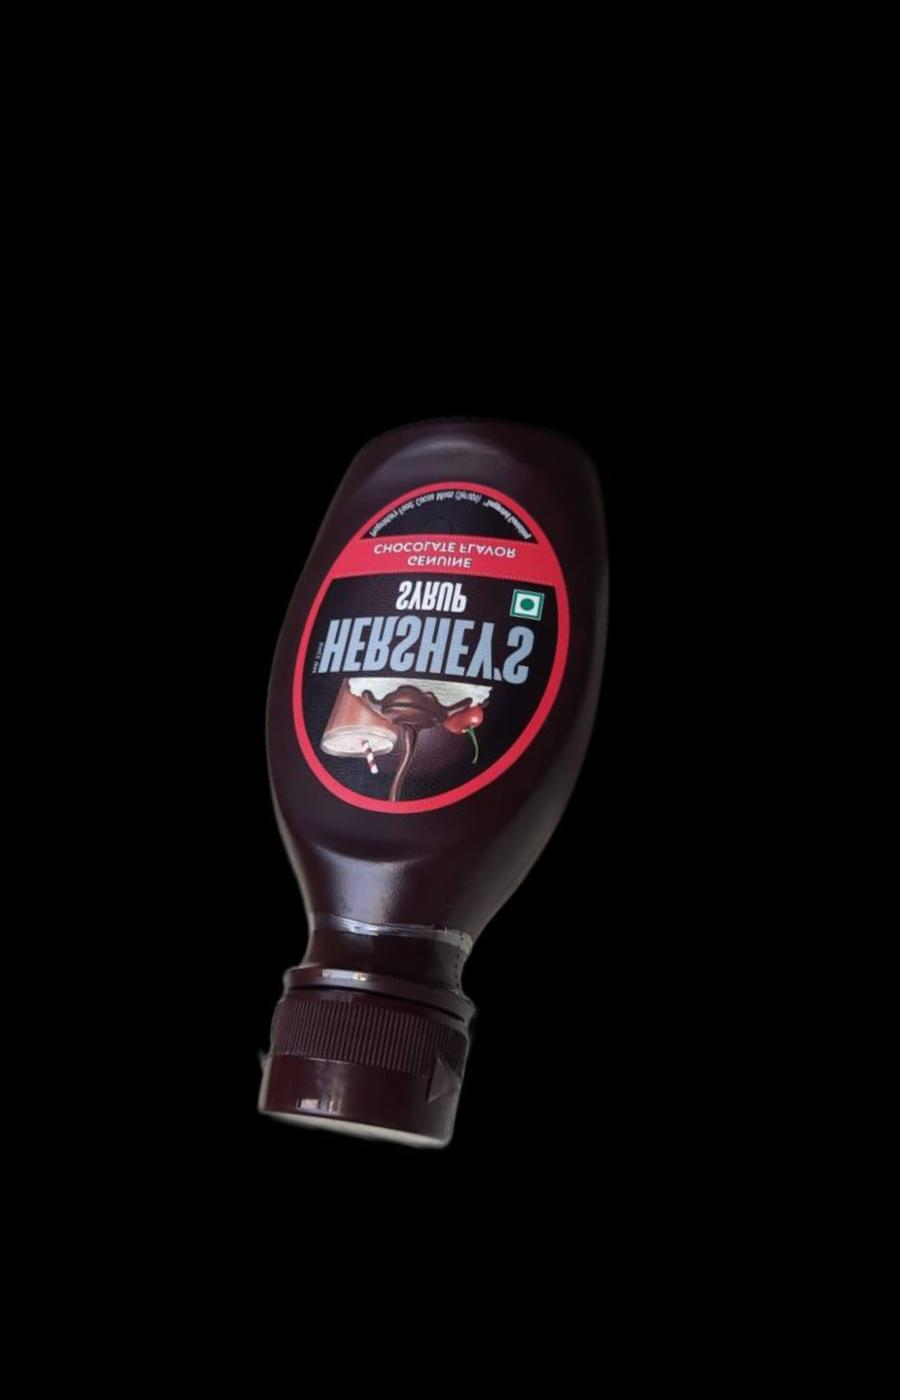HERSHEY-S Chocolate Flavored Syrup 200g: (169, 384, 683, 1185)
